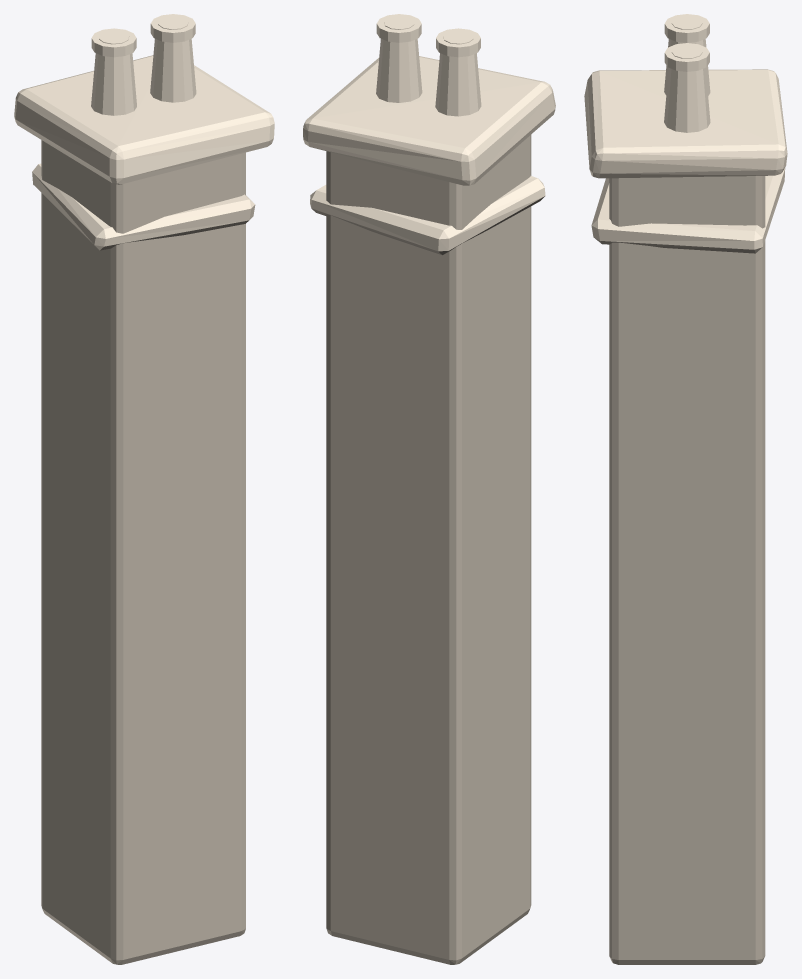
File: SM_VK_Chimney.fbx
3 views of the same model, side by side, from view 1: azimuth 30°, elevation 25°; view 2: azimuth 150°, elevation 25°; view 3: azimuth 270°, elevation 25° (orthographic).
Parts seen in each view (by area): view 1: SM_VK_Chimney.001; view 2: SM_VK_Chimney.001; view 3: SM_VK_Chimney.001.
Boxes of the visible parts, x1,y1,x2,y2 form: SM_VK_Chimney.001: [14, 14, 274, 964]; SM_VK_Chimney.001: [303, 14, 555, 964]; SM_VK_Chimney.001: [584, 14, 787, 964].
Bounding box in the file's own units: 1.3 × 6.36 × 1.3.
